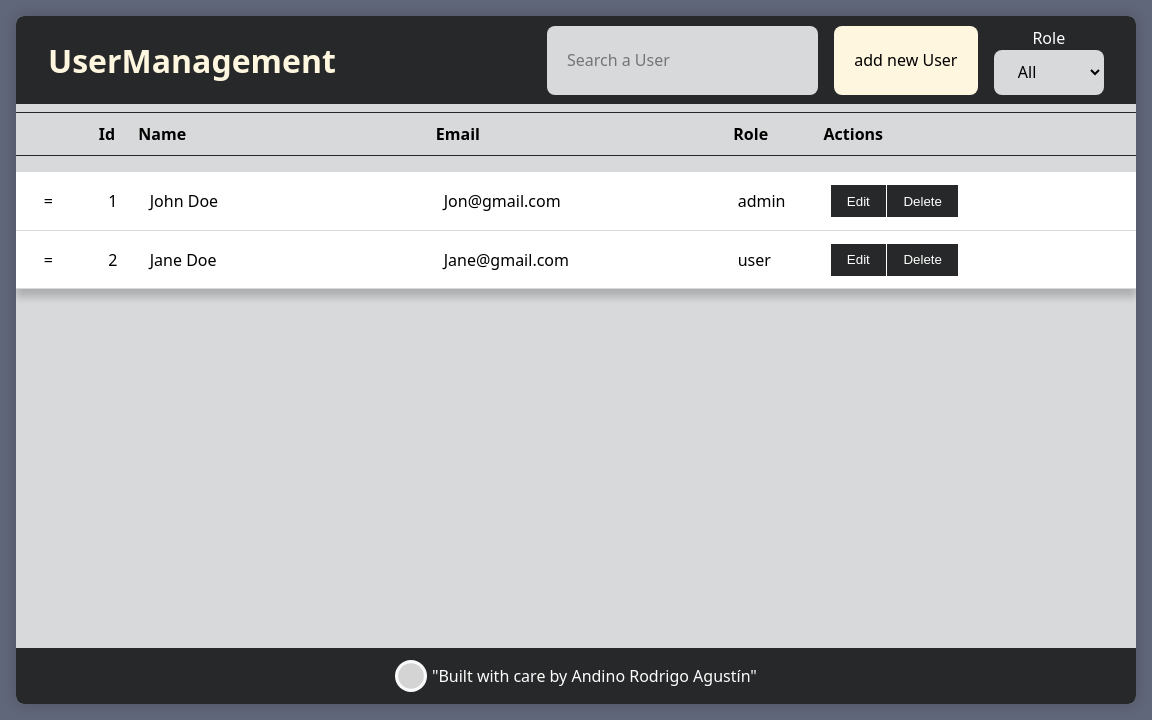
Test: App › should render a form to add a new user
The width and height of the screenshot is (1152, 720).
Click the button "add new User".
click(906, 60)  # box [834,26,978,95]
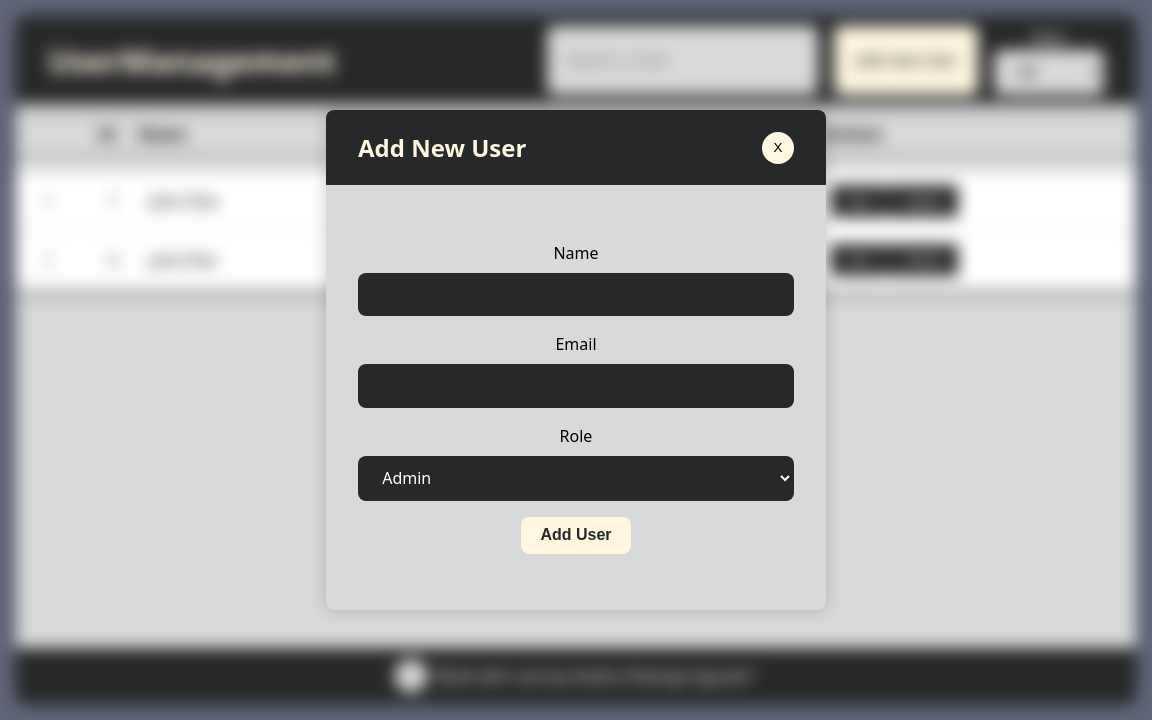
Check: the heading "Add New User" is shown, box [358,130,526,166]
Check: the button "Add User" is shown, box [521,517,631,554]
